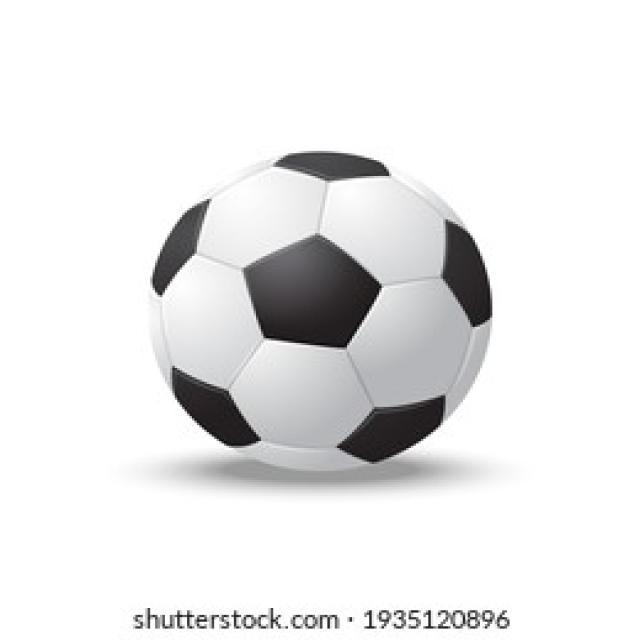soccer ball: (150, 151, 492, 475)
